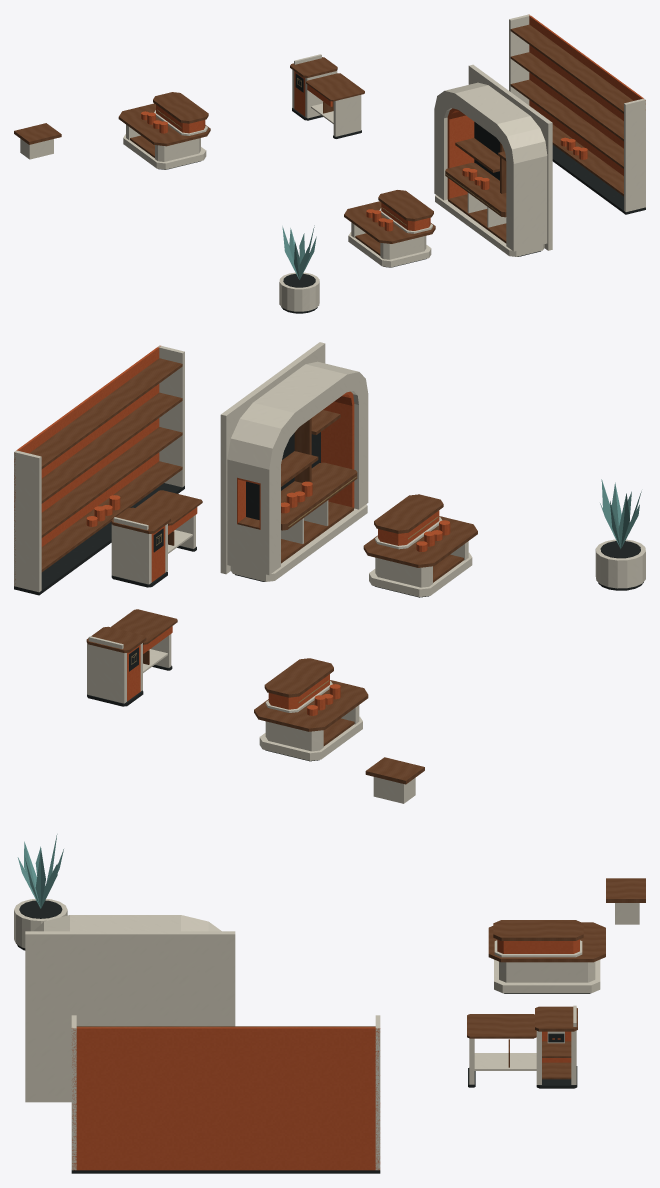
The model's file is SHOP_D09_S100_A366__fitout.glb.
The picture shows the model from 3 angles, top to bottom: view 1: azimuth 30°, elevation 25°; view 2: azimuth 150°, elevation 25°; view 3: azimuth 270°, elevation 25°; orthographic projection. The views are drawn at different scales.
Parts seen in each view (by area): view 1: SHOP_D09_S100_A366__fitout__ivory_enamel, SHOP_D09_S100_A366__fitout__warm_walnut, SHOP_D09_S100_A366__fitout__retail_terracotta_enamel, SHOP_D09_S100_A366__fitout__dark_rubber, SHOP_D09_S100_A366__fitout__quiet_teal; view 2: SHOP_D09_S100_A366__fitout__ivory_enamel, SHOP_D09_S100_A366__fitout__warm_walnut, SHOP_D09_S100_A366__fitout__retail_terracotta_enamel, SHOP_D09_S100_A366__fitout__dark_rubber, SHOP_D09_S100_A366__fitout__quiet_teal; view 3: SHOP_D09_S100_A366__fitout__retail_terracotta_enamel, SHOP_D09_S100_A366__fitout__ivory_enamel, SHOP_D09_S100_A366__fitout__warm_walnut, SHOP_D09_S100_A366__fitout__dark_rubber, SHOP_D09_S100_A366__fitout__quiet_teal.
Boxes of the visible parts, x1,y1,x2,y2 form: SHOP_D09_S100_A366__fitout__ivory_enamel: (20, 14, 645, 311); SHOP_D09_S100_A366__fitout__warm_walnut: (14, 24, 633, 255); SHOP_D09_S100_A366__fitout__retail_terracotta_enamel: (141, 14, 645, 231); SHOP_D09_S100_A366__fitout__dark_rubber: (158, 73, 645, 313); SHOP_D09_S100_A366__fitout__quiet_teal: (282, 225, 316, 279); SHOP_D09_S100_A366__fitout__ivory_enamel: (14, 342, 645, 803); SHOP_D09_S100_A366__fitout__warm_walnut: (29, 358, 477, 784); SHOP_D09_S100_A366__fitout__retail_terracotta_enamel: (14, 345, 450, 715); SHOP_D09_S100_A366__fitout__dark_rubber: (14, 432, 643, 761); SHOP_D09_S100_A366__fitout__quiet_teal: (600, 479, 641, 548); SHOP_D09_S100_A366__fitout__retail_terracotta_enamel: (72, 939, 579, 1170); SHOP_D09_S100_A366__fitout__ivory_enamel: (14, 899, 639, 1170); SHOP_D09_S100_A366__fitout__warm_walnut: (76, 878, 645, 1079); SHOP_D09_S100_A366__fitout__dark_rubber: (17, 900, 590, 1173); SHOP_D09_S100_A366__fitout__quiet_teal: (17, 834, 63, 908).
Bounding box in the file's own units: 10.25 × 3 × 10.24.
Materials: 6 (5 with a texture image).
